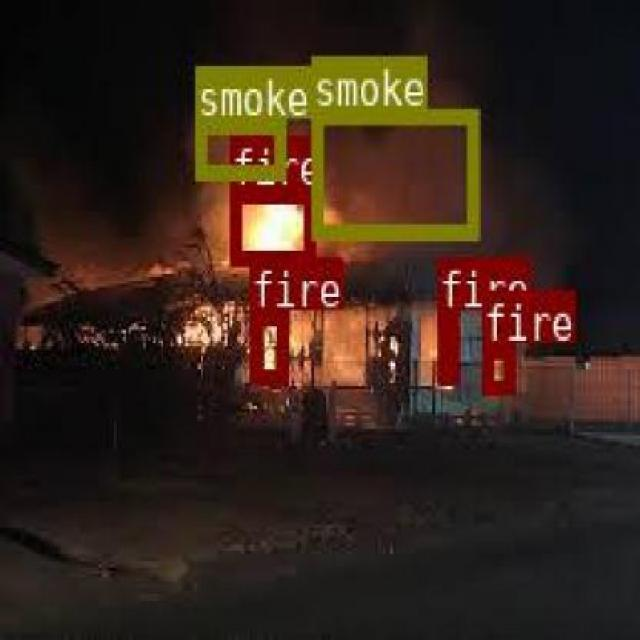Fire: (228, 186, 312, 262), (248, 308, 286, 382), (479, 341, 513, 394), (436, 309, 456, 380)
Smoke: (310, 106, 476, 234), (194, 118, 284, 178)
